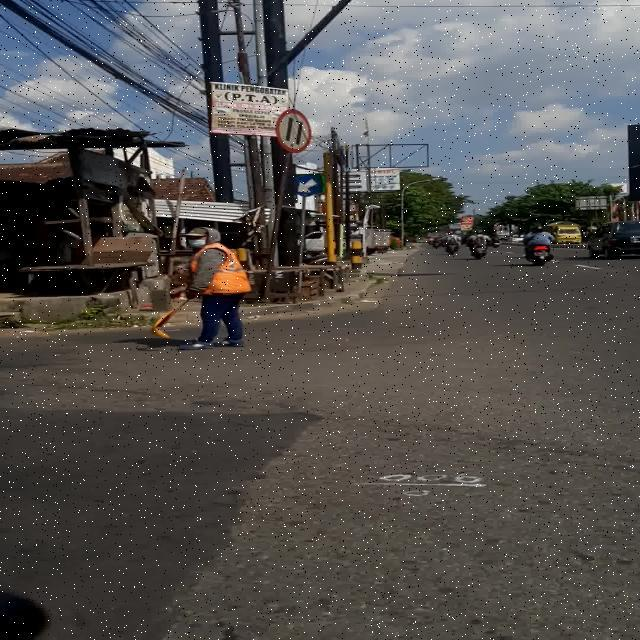Larangan Muatan - 10 ton: (276, 109, 310, 152)
